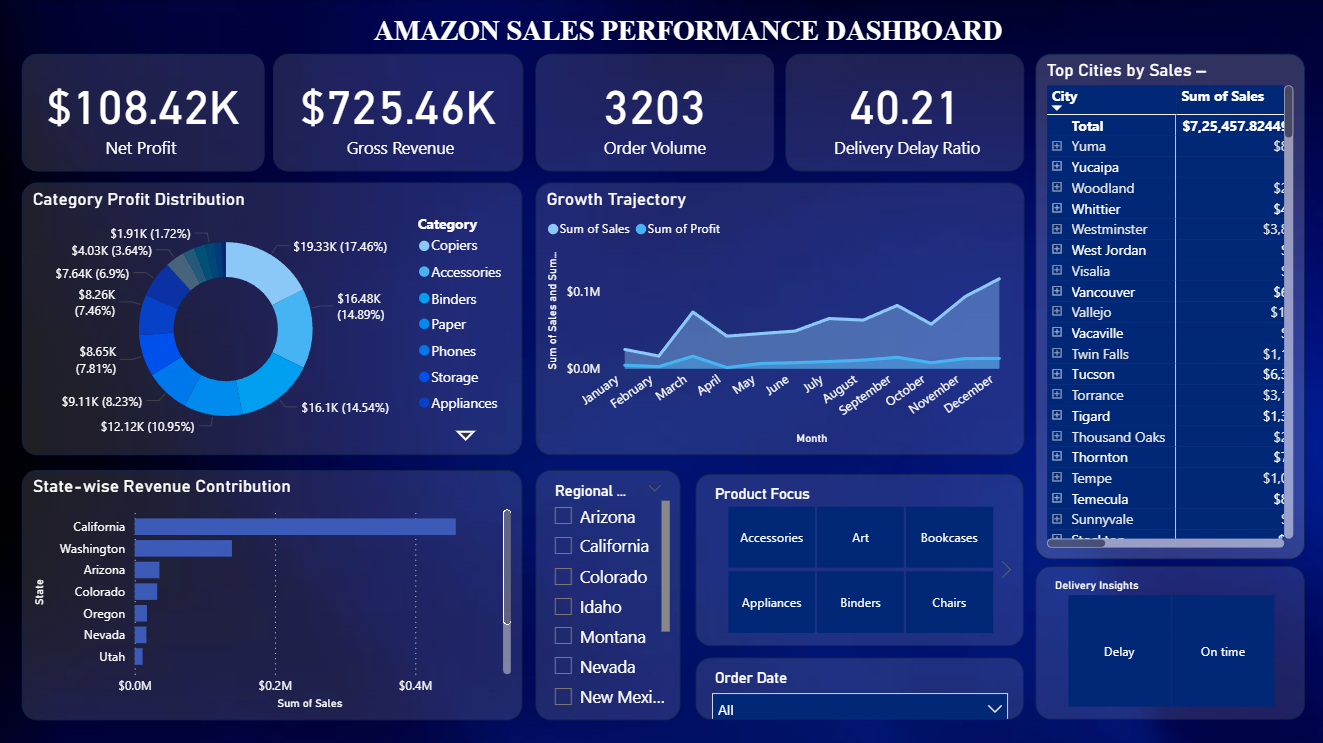

Layout of this report page (visuals, bound fields, positions):
{"tool":"powerbi","page":{"name":"Page 1","canvas":[1280,720],"ordinal":0},"visuals":[{"type":"areaChart","title":"Growth Trajectory","fields":{"Category":["Walmart.Order Date.Variation.Date Hierarchy.Month"],"Y":["Sum(Walmart.Sales)","Sum(Walmart.Profit)"]},"box":[518.3,176.7,471.7,263.3],"z":0},{"type":"donutChart","title":"Category Profit Distribution ","fields":{"Category":["Walmart.Category"],"Y":["Sum(Walmart.Profit)"]},"box":[23.3,176.7,483.3,263.3],"z":1000},{"type":"clusteredBarChart","title":"State-wise Revenue Contribution ","fields":{"Category":["Walmart.State"],"Y":["Sum(Walmart.Sales)"]},"box":[23.3,453.3,483.3,241.7],"z":2000},{"type":"pivotTable","title":"Top Cities by Sales –","fields":{"Rows":["Walmart.City","Walmart.State"],"Values":["Sum(Walmart.Sales)","Sum(Walmart.Profit)","Sum(Walmart.Quantity)"]},"box":[1001.7,51.7,260,488.3],"z":3000},{"type":"card","fields":{"Values":["Sum(Walmart.Sales)"]},"box":[265.4,51.9,241.3,113.4],"z":4000},{"type":"card","fields":{"Values":["Sum(Walmart.Profit)"]},"box":[22.9,51.9,234,113.4],"z":5000},{"type":"card","fields":{"Values":["CountNonNull(Walmart.Order ID)"]},"box":[518.3,51.7,230,113.3],"z":6000},{"type":"card","fields":{"Values":["Walmart.DelayPercentage"]},"box":[760,51.7,230,113.3],"z":7000},{"type":"slicer","fields":{"Values":["Walmart.Order Date"]},"box":[672.9,634.3,317.1,60],"z":8000},{"type":"slicer","fields":{"Values":["Walmart.Category"]},"box":[673.3,456.7,316.7,166.7],"z":9000},{"type":"slicer","fields":{"Values":["Walmart.State"]},"box":[518.3,453.3,140,241.7],"z":10000},{"type":"slicer","fields":{"Values":["Walmart.Status"]},"box":[1001.7,546.7,260,148.3],"z":11000},{"type":"textbox","box":[0,10,1238.6,41.4],"z":12000}]}

Visuals, with their boxes in screenshot pixels (x1, y1, x2, y2), scaled from the page's 1280x720 canvas onto the 1323x743 screenshot:
"Growth Trajectory" areaChart: x1=536 y1=182 x2=1023 y2=454
"Category Profit Distribution " donutChart: x1=24 y1=182 x2=524 y2=454
"State-wise Revenue Contribution " clusteredBarChart: x1=24 y1=468 x2=524 y2=717
"Top Cities by Sales –" pivotTable: x1=1035 y1=53 x2=1304 y2=557
card - Sum(Walmart.Sales): x1=274 y1=54 x2=524 y2=171
card - Sum(Walmart.Profit): x1=24 y1=54 x2=266 y2=171
card - CountNonNull(Walmart.Order ID): x1=536 y1=53 x2=773 y2=170
card - Walmart.DelayPercentage: x1=786 y1=53 x2=1023 y2=170
slicer - Walmart.Order Date: x1=696 y1=655 x2=1023 y2=716
slicer - Walmart.Category: x1=696 y1=471 x2=1023 y2=643
slicer - Walmart.State: x1=536 y1=468 x2=680 y2=717
slicer - Walmart.Status: x1=1035 y1=564 x2=1304 y2=717
textbox: x1=0 y1=10 x2=1280 y2=53
